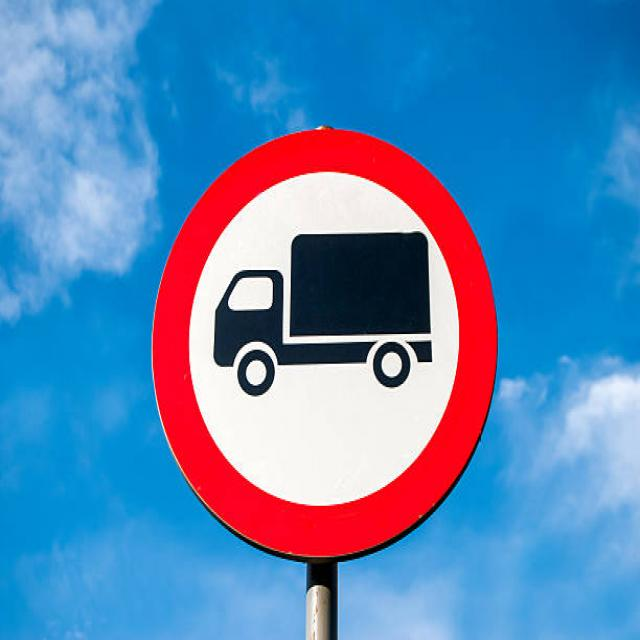do_not_enter: (147, 114, 513, 566)
